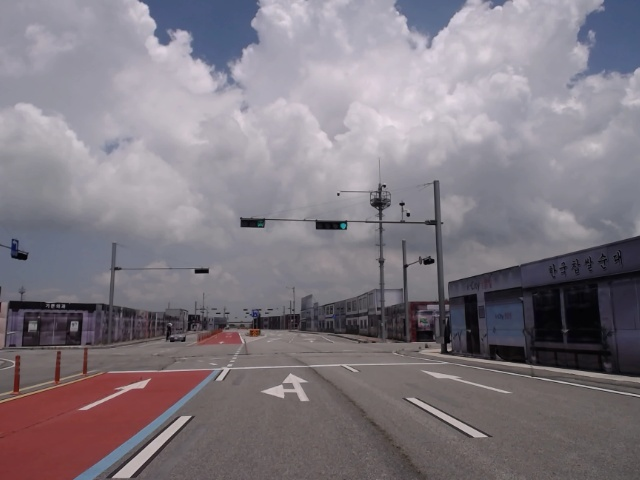straight_green_4: (315, 221, 348, 230)
